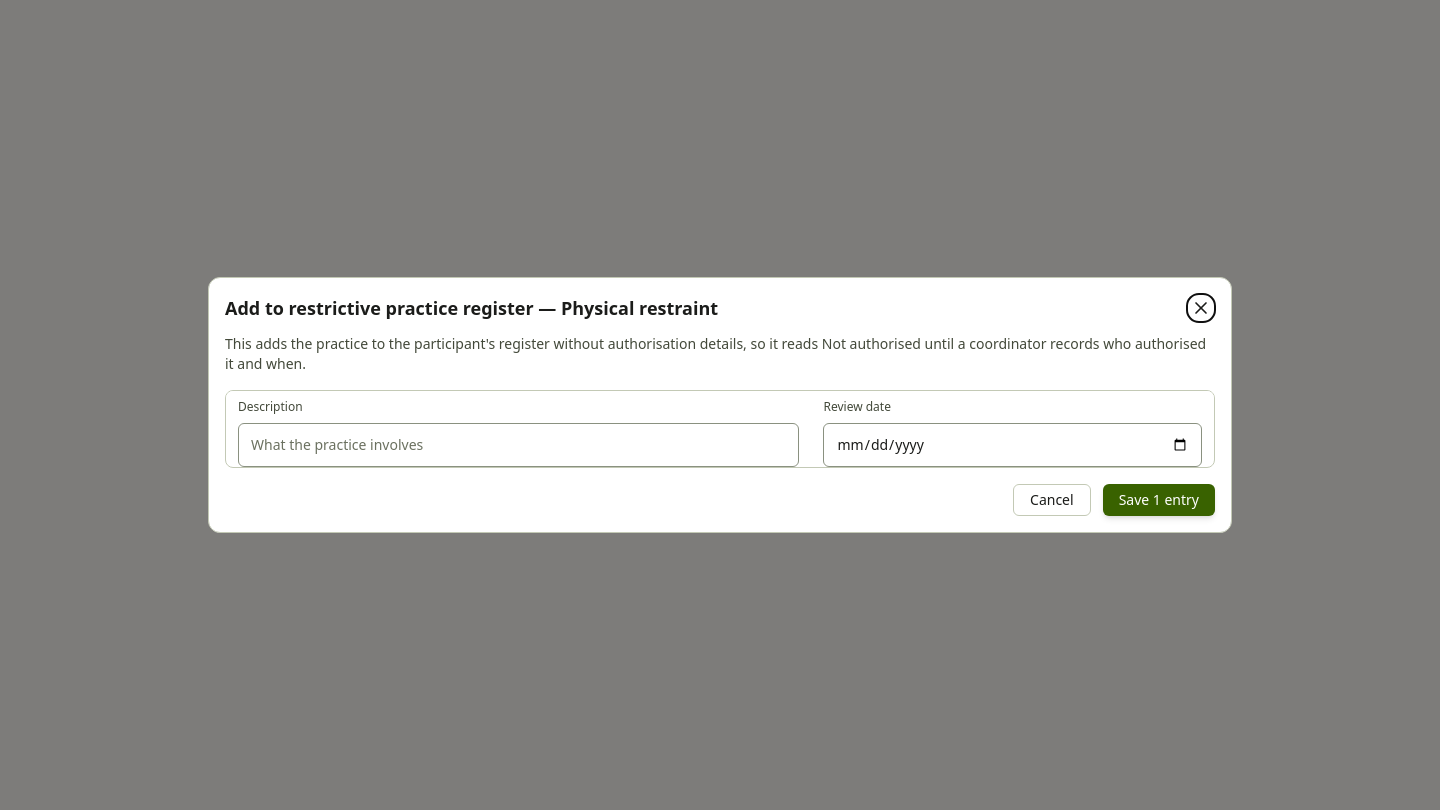
it: AddRestrictivePracticeDialog with a default type (from an incident) › requires a description before saving
Click the button "Save 1 entry": (1159, 500) [1103,484,1215,516]
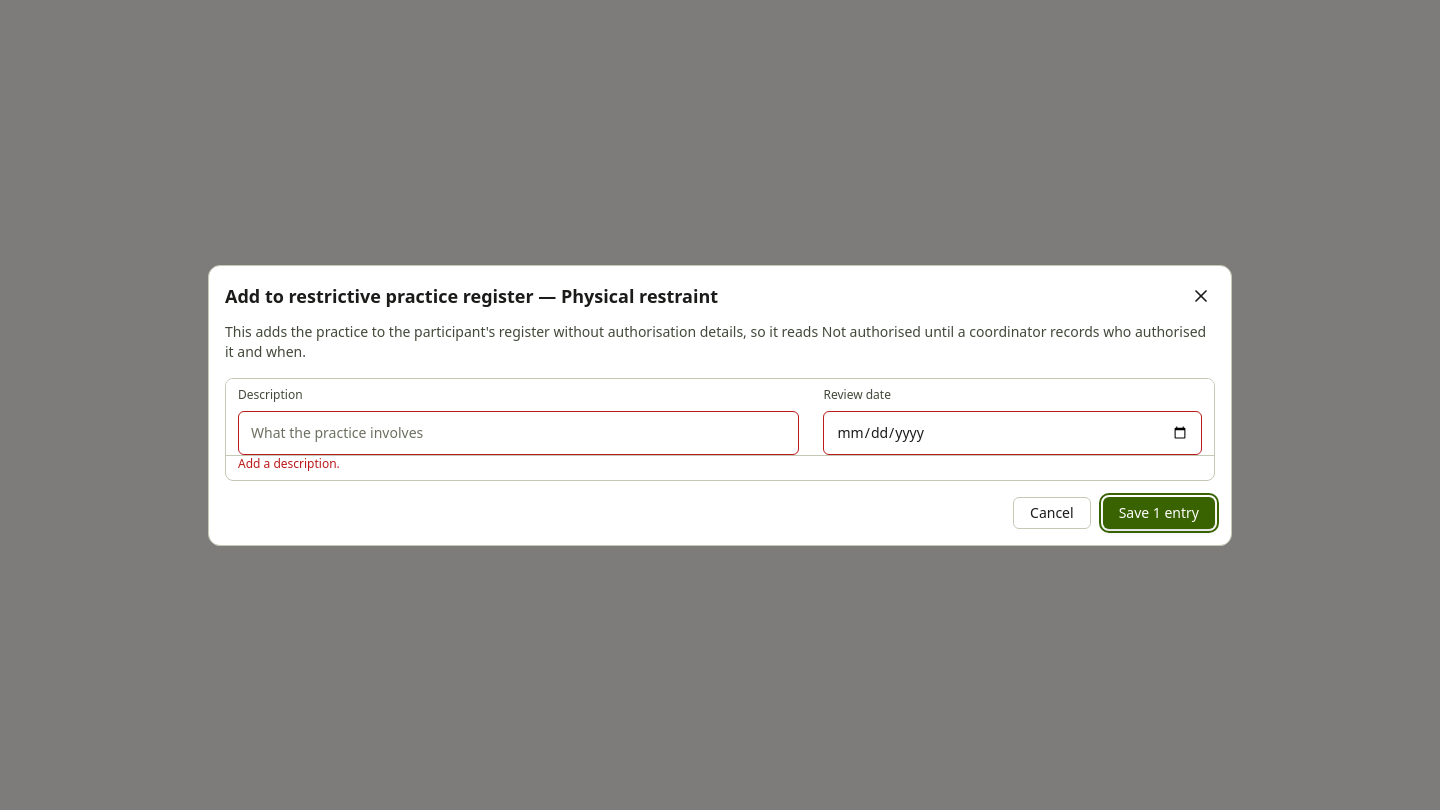
Expected: the text "Add a description." is shown, [238,454,340,472]
